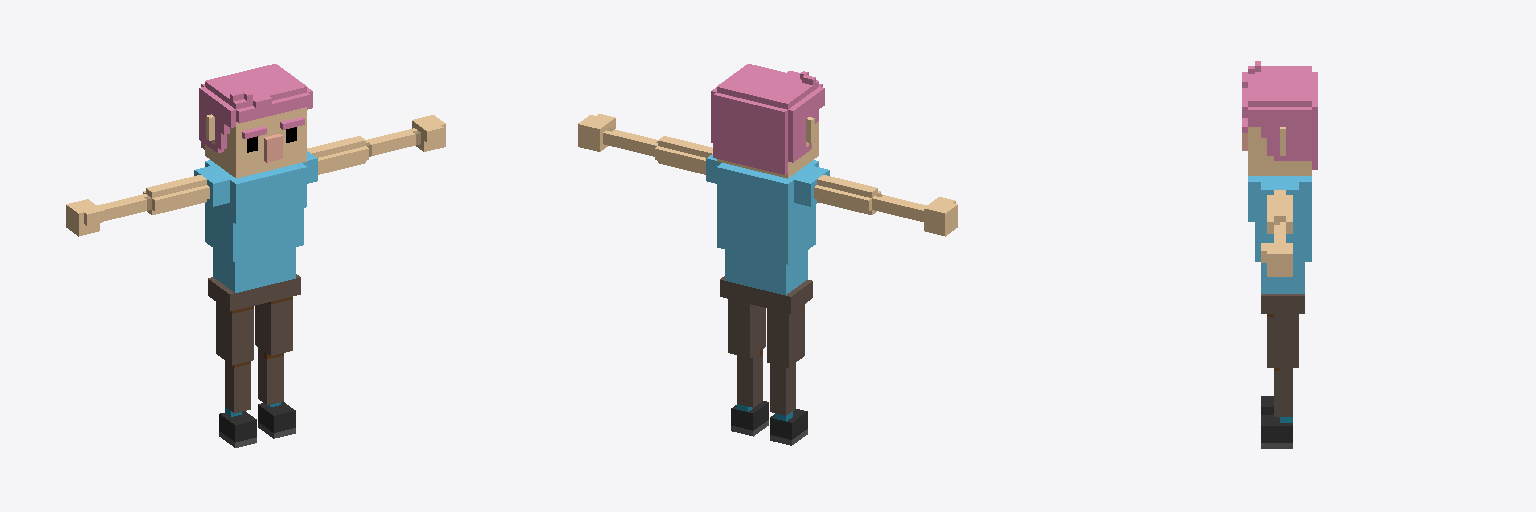
The picture shows the model from 3 angles: view 1: azimuth 30°, elevation 25°; view 2: azimuth 150°, elevation 25°; view 3: azimuth 270°, elevation 25°; orthographic projection.
Parts seen in each view (by area): view 1: Model; view 2: Model; view 3: Model.
Boxes of the visible parts, x1=… form: Model: x1=66, y1=64, x2=445, y2=447; Model: x1=578, y1=64, x2=957, y2=445; Model: x1=1242, y1=61, x2=1317, y2=448.
Size of the model in its own units: 21.44 by 19.84 by 3.84.
Materials: 1 (1 with a texture image).